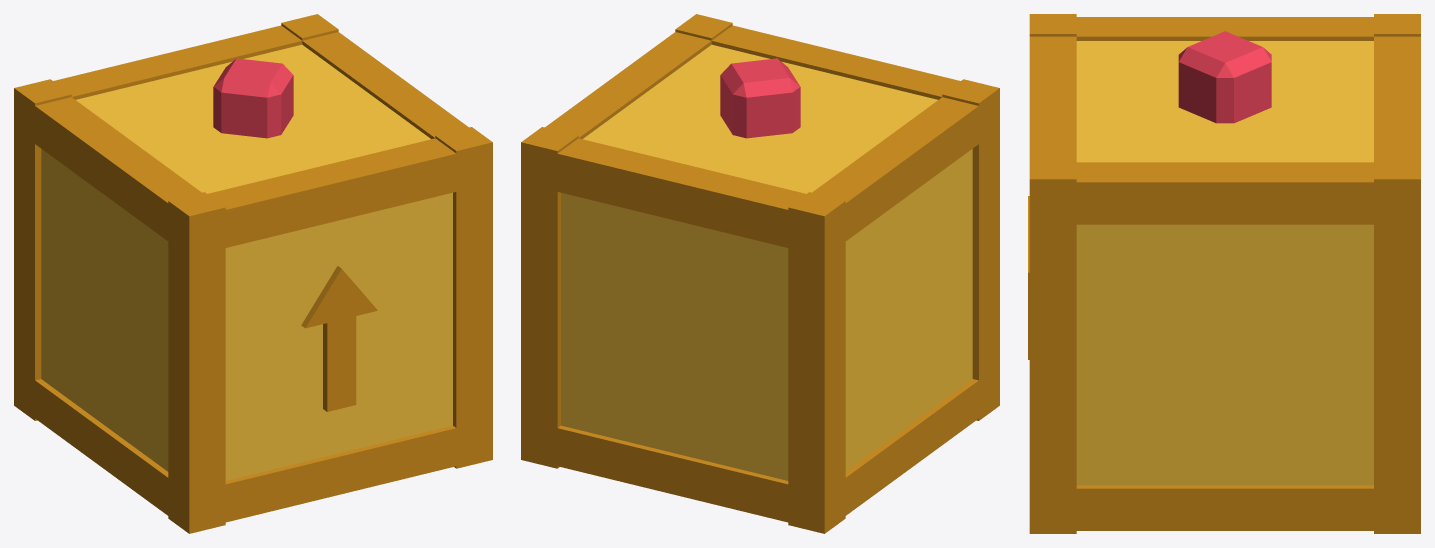
Rendered from GoldLootCrate.fbx.
The picture shows the model from 3 angles, left to right: view 1: azimuth 30°, elevation 25°; view 2: azimuth 150°, elevation 25°; view 3: azimuth 270°, elevation 25°; orthographic projection. The views are drawn at different scales.
Visible parts, largest first — view 1: GoldLootCrate; view 2: GoldLootCrate; view 3: GoldLootCrate.
Boxes of the visible parts, <box> form: GoldLootCrate: <box>14,14,492,533</box>; GoldLootCrate: <box>521,14,999,533</box>; GoldLootCrate: <box>1028,14,1420,533</box>.
Size of the model in its own units: 2.5 by 2.85 by 2.51.
1 material, 1 textured.
